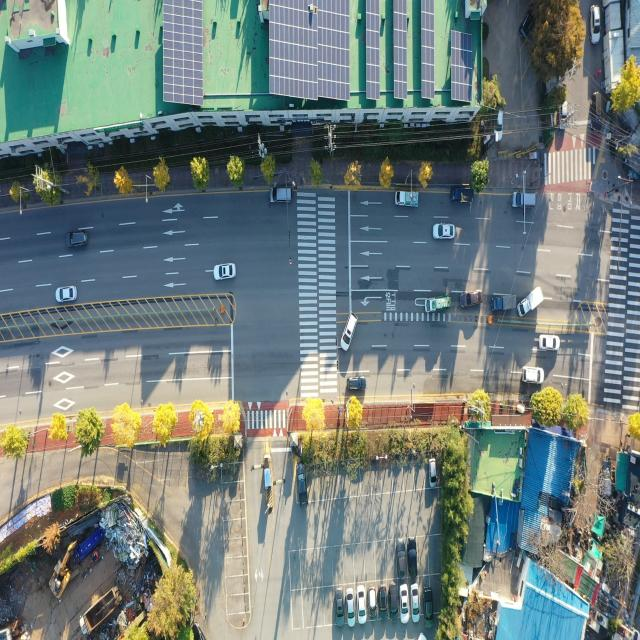car: (340, 309, 358, 352), (510, 191, 538, 211), (522, 366, 545, 386), (590, 93, 601, 133), (296, 465, 306, 505), (520, 12, 534, 40), (271, 186, 294, 203), (462, 290, 483, 308), (410, 585, 420, 621), (214, 264, 235, 281), (434, 223, 456, 239), (409, 540, 418, 578), (389, 584, 398, 622), (396, 544, 406, 578), (67, 231, 86, 248), (540, 336, 560, 352), (379, 586, 388, 621), (592, 5, 600, 44), (337, 588, 345, 625), (424, 587, 432, 624), (357, 587, 365, 623), (400, 586, 408, 622), (58, 286, 77, 301), (347, 377, 366, 392), (496, 107, 504, 141), (560, 101, 569, 130), (368, 588, 375, 620), (429, 457, 436, 487), (348, 589, 354, 623)
medium_truck: (79, 582, 124, 636)
small_truck: (518, 288, 544, 319), (426, 295, 451, 314), (450, 186, 473, 204), (394, 191, 418, 208), (491, 295, 513, 313)
